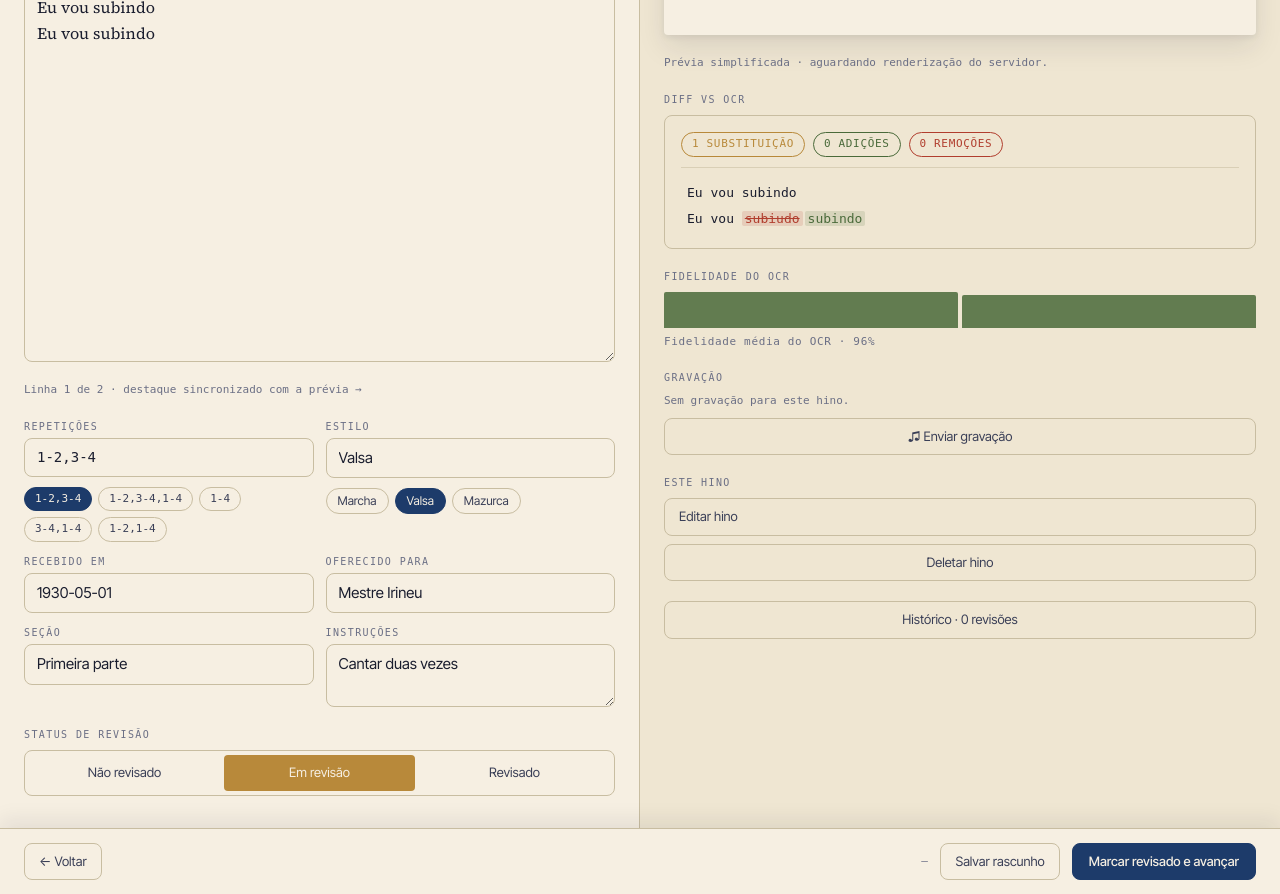
Test: 5C.10 — Marcar revisado e avançar › marca REVIEWED mesmo com o segmentado em outro estado
This screenshot has width=1280, height=894.
(page scrolled)
Click the radio button labelled "Não revisado".
click(125, 772)  # box [88, 764, 161, 780]
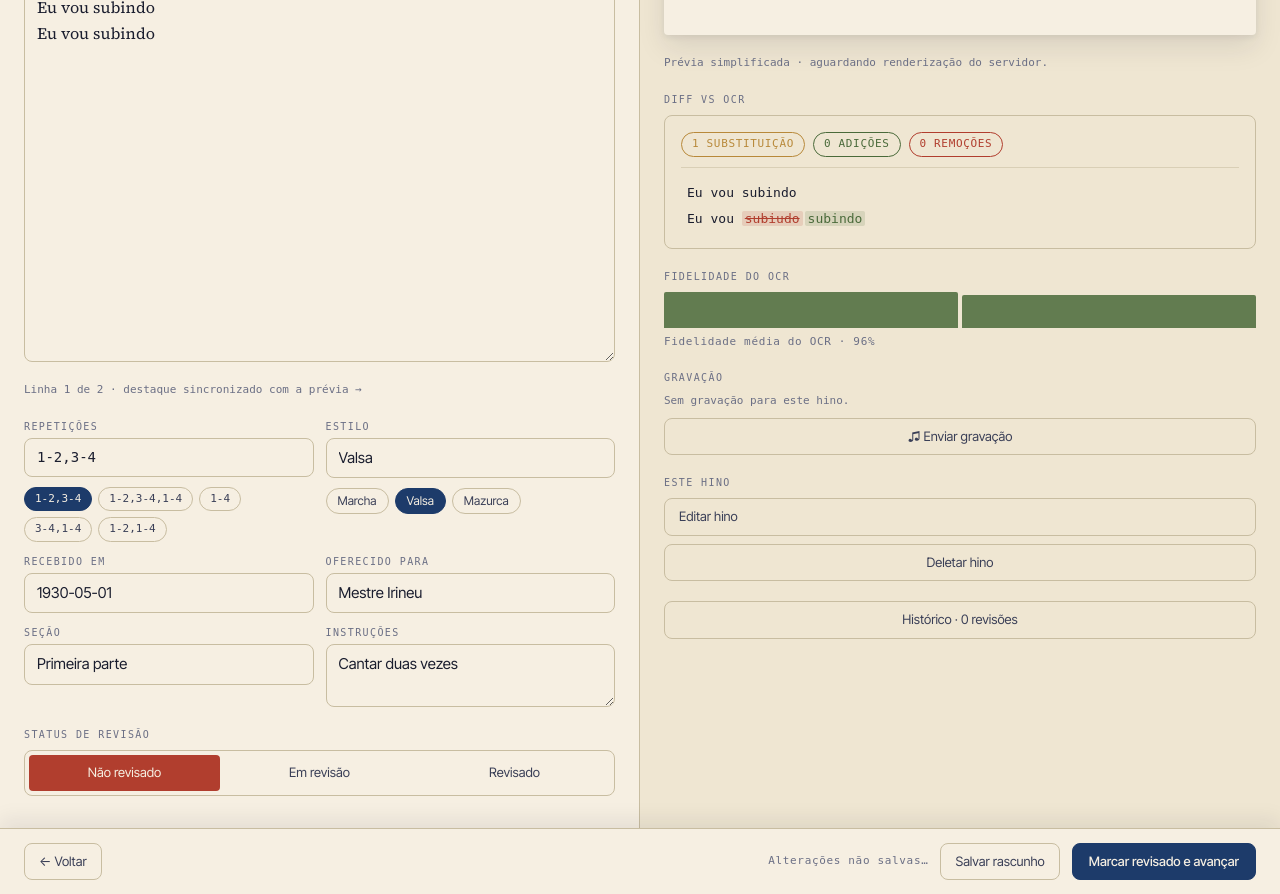
Click the button "Marcar revisado e avançar".
click(1164, 861)  # box [1072, 842, 1256, 880]
Wait 50 ms
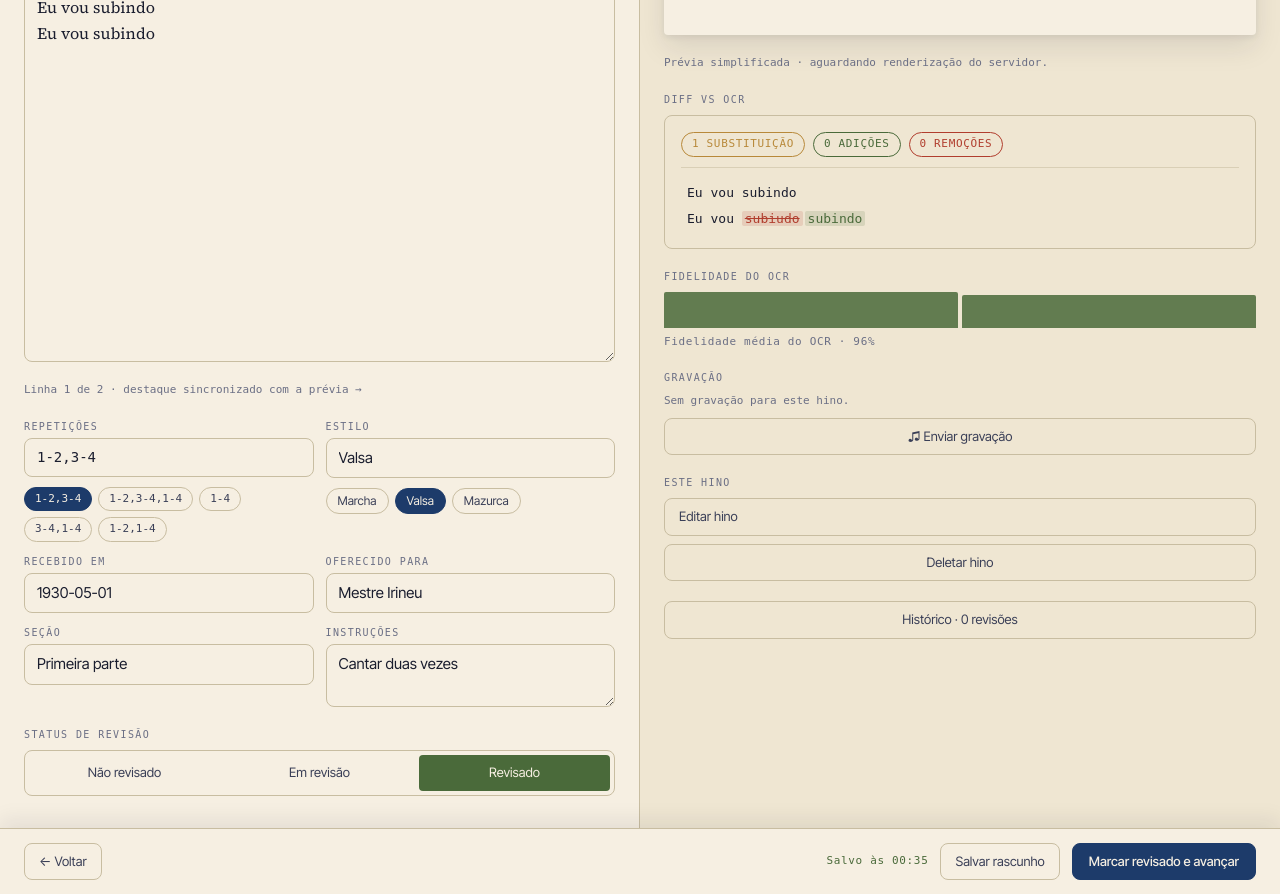
Check: the radio button labelled "Revisado" is checked, box [419, 755, 610, 791]
